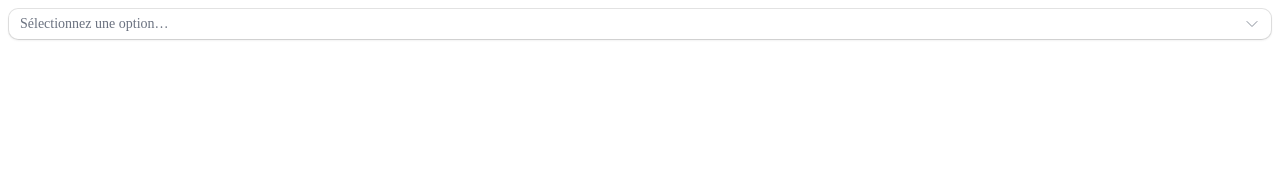
it: SuSelectBox › se ferme au pointerdown à l’extérieur
Press ArrowDown in the dropdown labelled "Sélectionnez une option…", box [8, 8, 1272, 40]
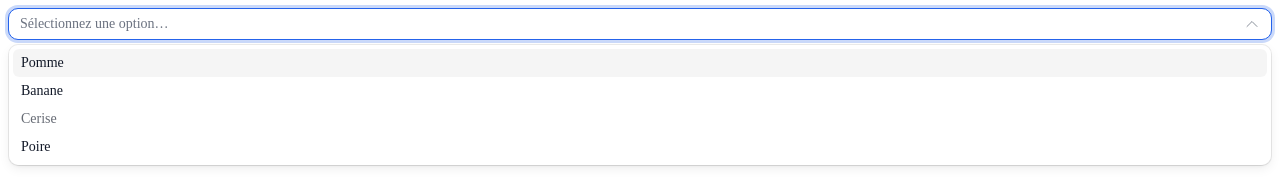
Press the mouse on the element showing "Sélectionnez une option…" at (640, 24), box [8, 8, 1272, 40]
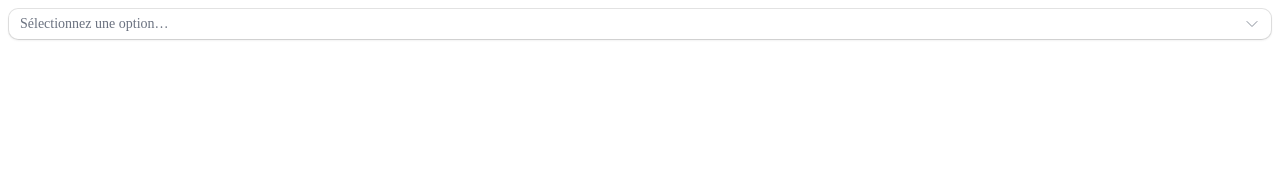
Result: the dropdown labelled "Sélectionnez une option…" is collapsed at [8, 8, 1272, 40]
